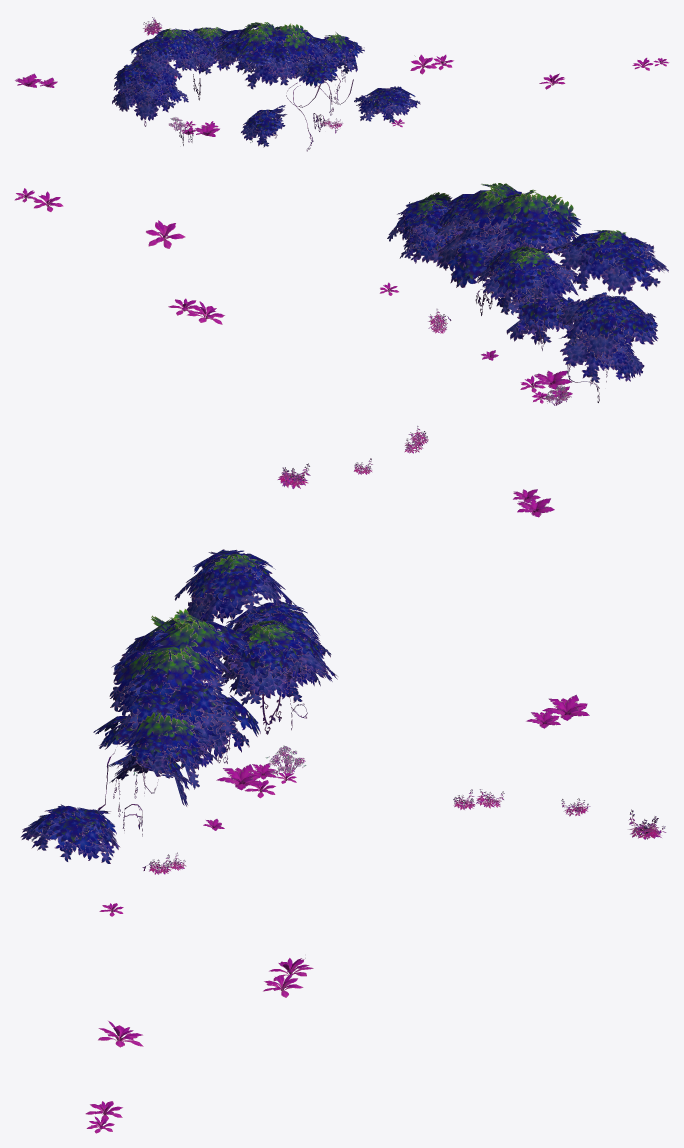
Rendered from zhibei1_1.fbx.
The picture shows the model from 3 angles, top to bottom: view 1: azimuth 30°, elevation 25°; view 2: azimuth 150°, elevation 25°; view 3: azimuth 270°, elevation 25°; orthographic projection. The views are drawn at different scales.
Parts seen in each view (by area): view 1: zhibei1_1; view 2: zhibei1_1; view 3: zhibei1_1.
Boxes of the visible parts, x1,y1,x2,y2 form: zhibei1_1: (15,17,669,151); zhibei1_1: (14,183,668,517); zhibei1_1: (20,549,666,1133).
Size of the model in its own units: 5983 by 1321 by 3853.
